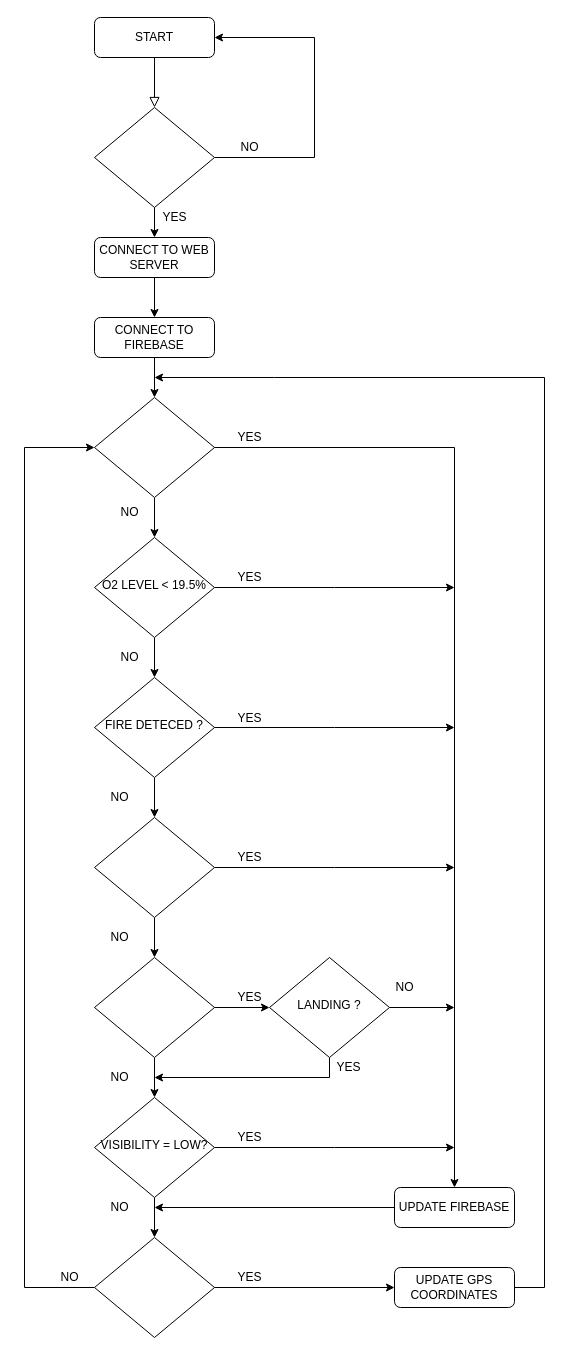
This 570x1355 diagram has some shape labels left out. Here are the shapes that lost their labels. From the top down, the centre of each, then its label:
At point (154, 157): "CONNECT TO WIFI".
At point (154, 447): "FREEFALL?".
At point (154, 867): "SPEED > SAFE SPEED ?".
At point (154, 1007): "ALTITUDE < SAFE FLYING ALTI ?".
At point (154, 1287): "TIME > 2 MINUTES".
